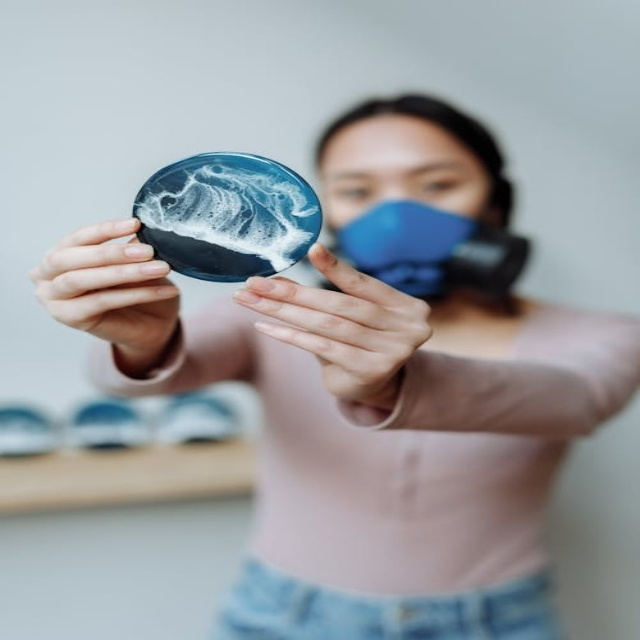Mascara: (334, 198, 528, 300)
Sin_gafas: (321, 160, 465, 202)
Sin_guantes: (231, 241, 437, 409), (28, 215, 183, 356)
